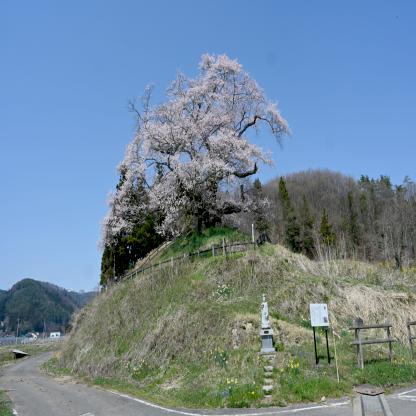EdohiganSakura: (94, 52, 294, 268)
